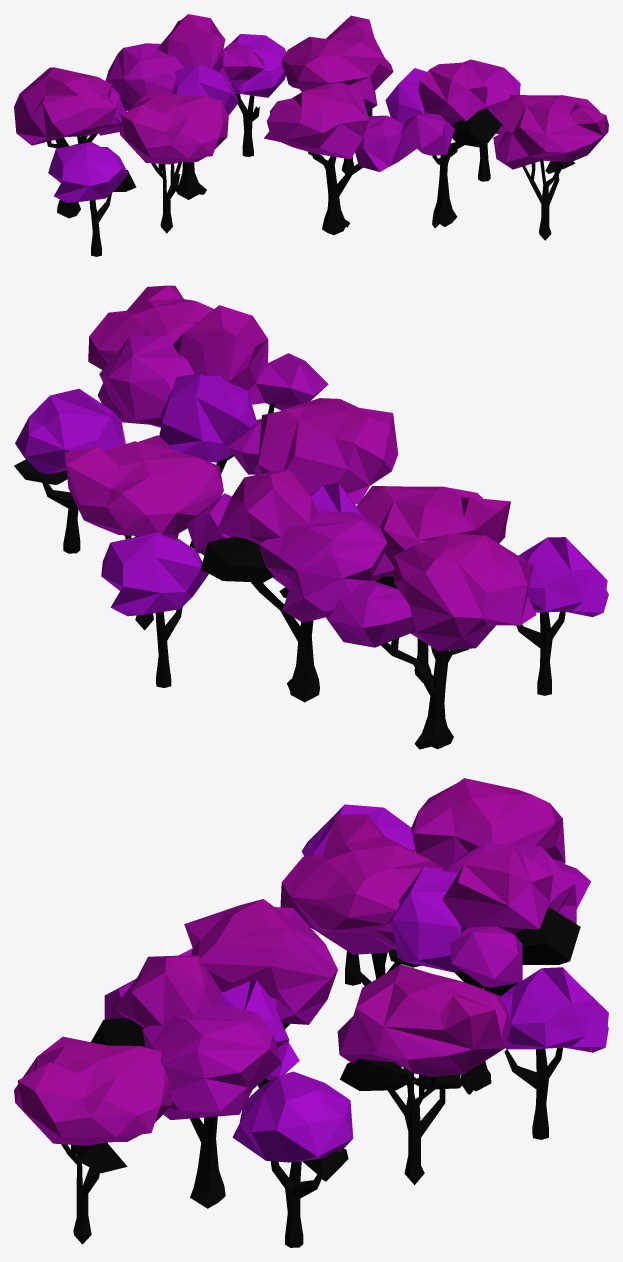
File: SM_Env_Tree_Cluster_01.glb
3 renders of one model, top to bottom at view 1: azimuth 30°, elevation 25°; view 2: azimuth 150°, elevation 25°; view 3: azimuth 270°, elevation 25°, orthographic. The views are drawn at different scales.
Parts seen in each view (by area): view 1: SM_Env_Tree_Cluster_01; view 2: SM_Env_Tree_Cluster_01; view 3: SM_Env_Tree_Cluster_01.
Boxes of the visible parts, bbox=[...] form: SM_Env_Tree_Cluster_01: bbox=[14, 14, 608, 256]; SM_Env_Tree_Cluster_01: bbox=[14, 285, 608, 749]; SM_Env_Tree_Cluster_01: bbox=[14, 778, 608, 1247].
Size of the model in its own units: 23.71 by 8.58 by 18.21.
